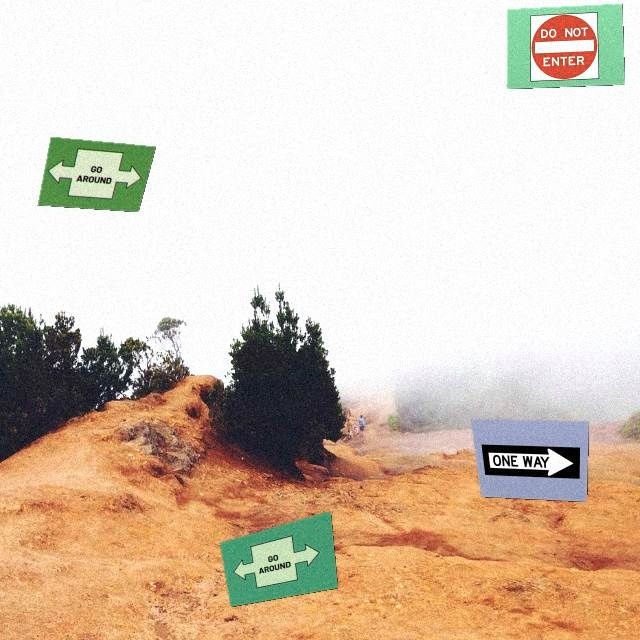DO_NOT_ENTER: (530, 11, 599, 84)
GO_AROUND: (43, 141, 148, 209), (230, 529, 322, 597)
ONE_WAY_ right: (481, 440, 583, 482)
